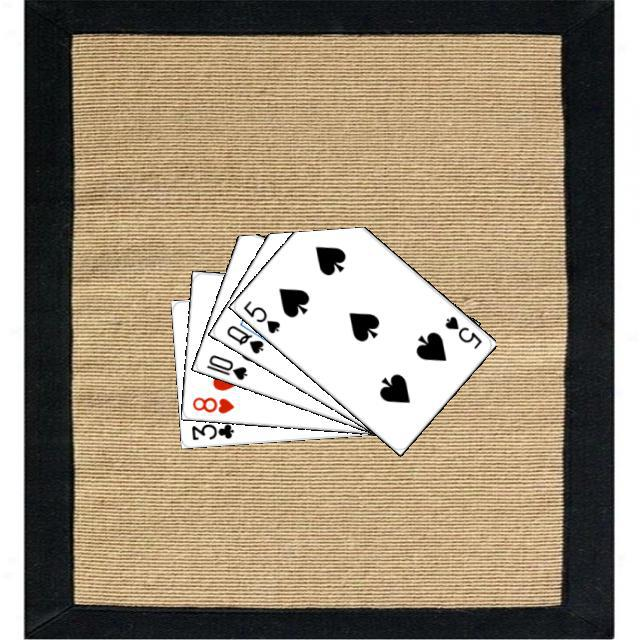10s: (201, 350, 249, 382)
3c: (187, 419, 236, 442)
5s: (238, 295, 282, 335), (440, 311, 484, 351)
8h: (187, 392, 236, 415)
Qs: (221, 320, 265, 356)
